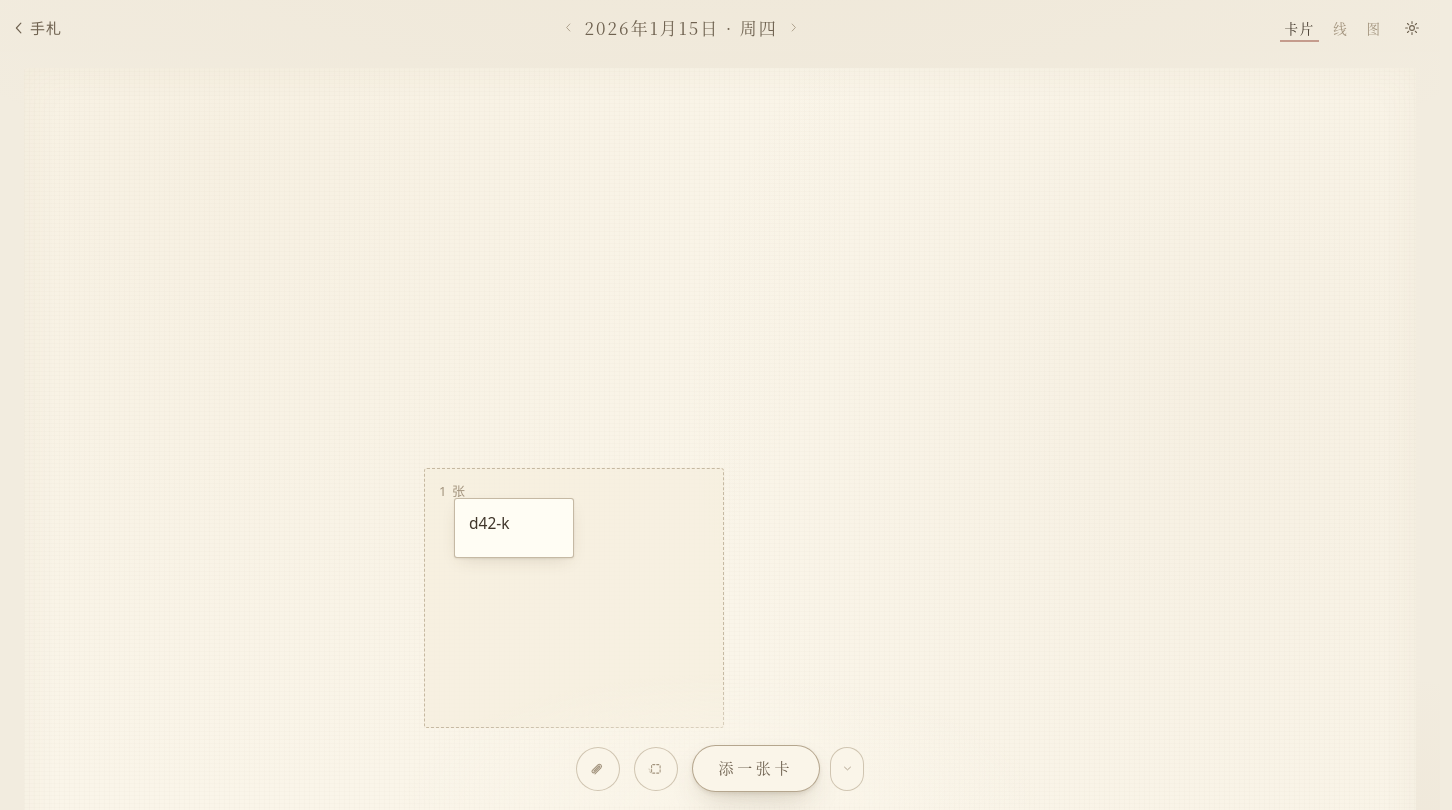
Test case: 拖出与界内挪（D4） › 拖出垫纸边界：断奶独立落定；旧垫纸只扩不缩、数张便签退回耳语
expect the text "d42-k" is shown: met, box top-left (469, 512), bottom-right (510, 534)
Press the mouse on the element showing "d42-k": (514, 528) top-left (454, 498), bottom-right (574, 558)
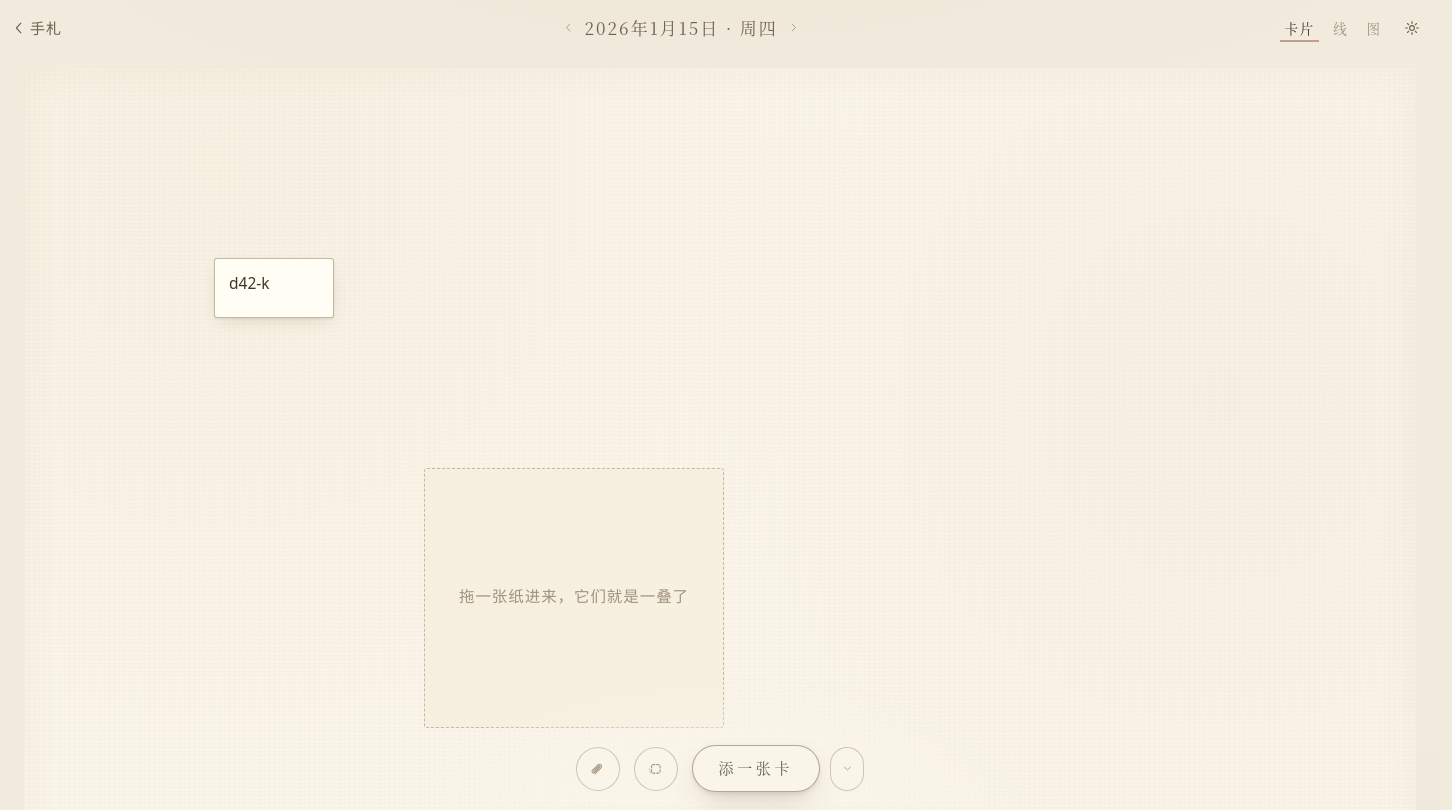
expect the text with class "bj-stack-whisper" reads "拖一张纸进来，它们就是一叠了": met, box top-left (459, 585), bottom-right (689, 607)
